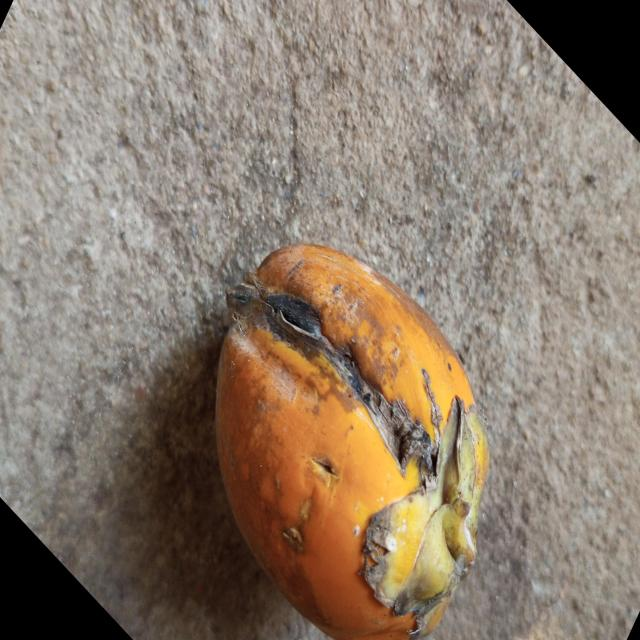damaged: (214, 244, 491, 640)
